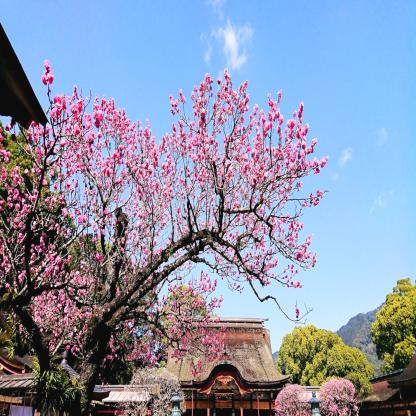Ume: (0, 47, 330, 383), (121, 362, 186, 416), (318, 370, 360, 416), (274, 378, 312, 416)
